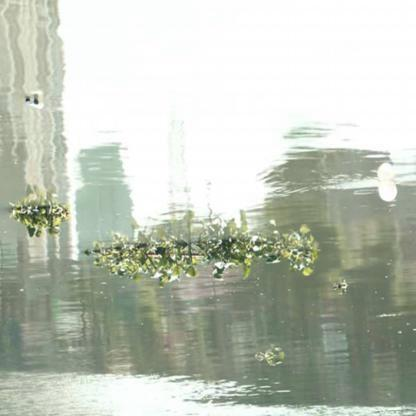Plastic: (373, 177, 399, 208), (20, 91, 48, 113)
